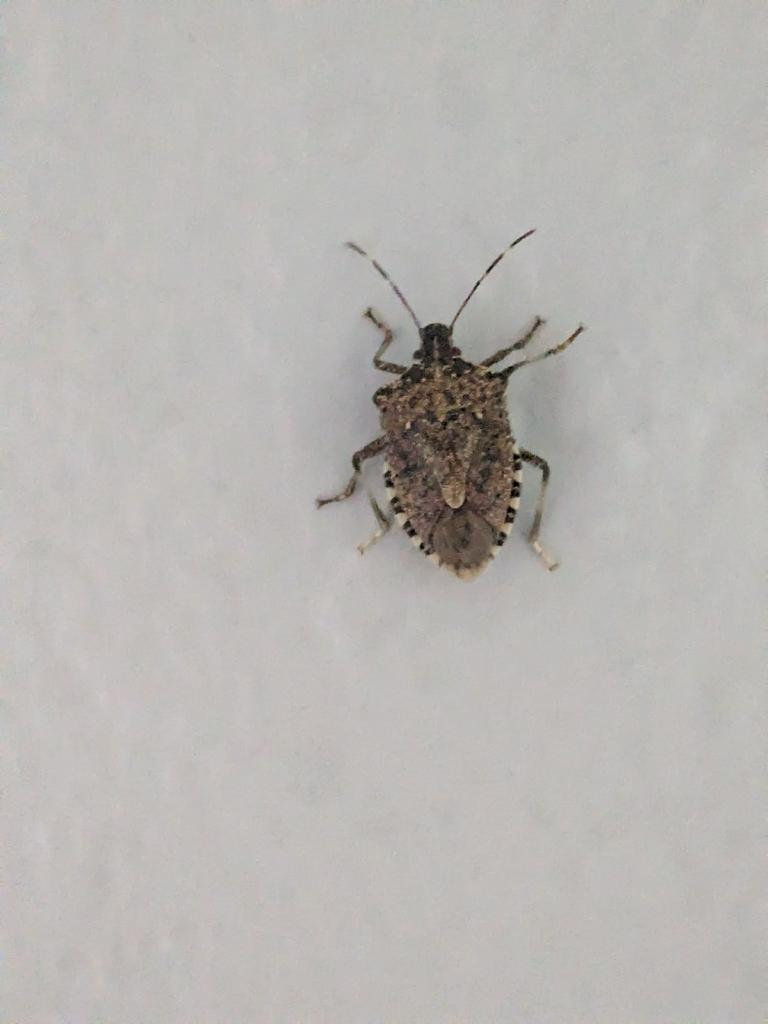stink_bugs: (241, 194, 679, 653)
